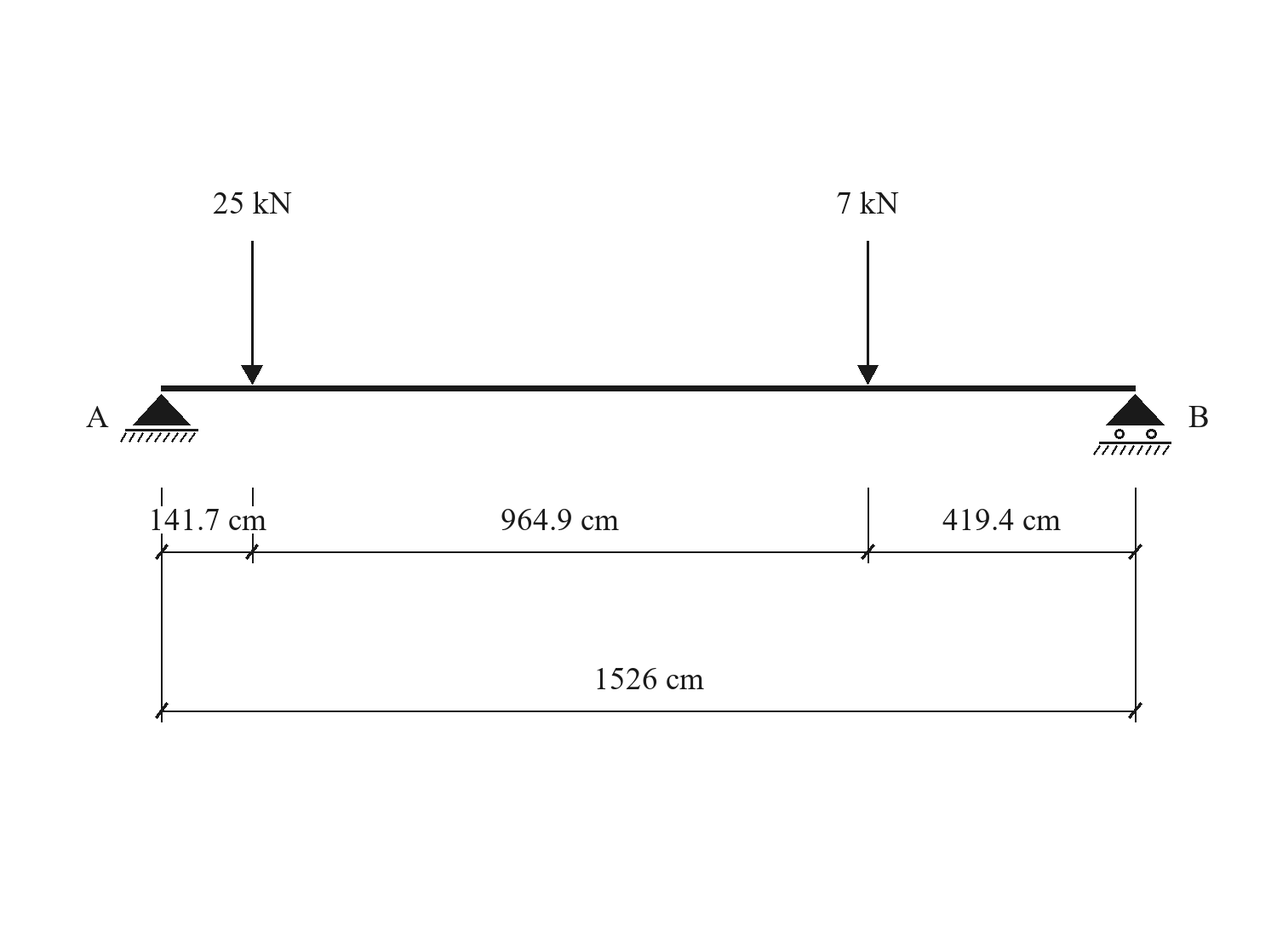pin_support: (120, 394, 198, 442)
point_load: (241, 241, 263, 385), (857, 241, 879, 385)
roller_support: (1093, 394, 1171, 455)
